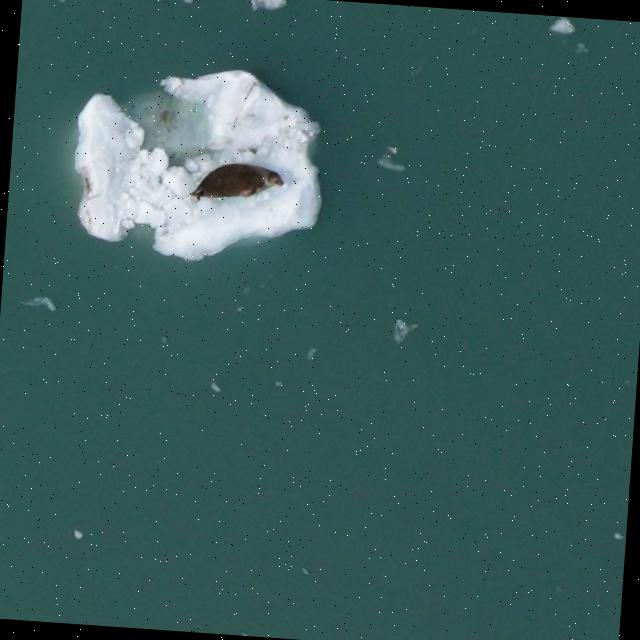seal: (189, 164, 286, 198)
